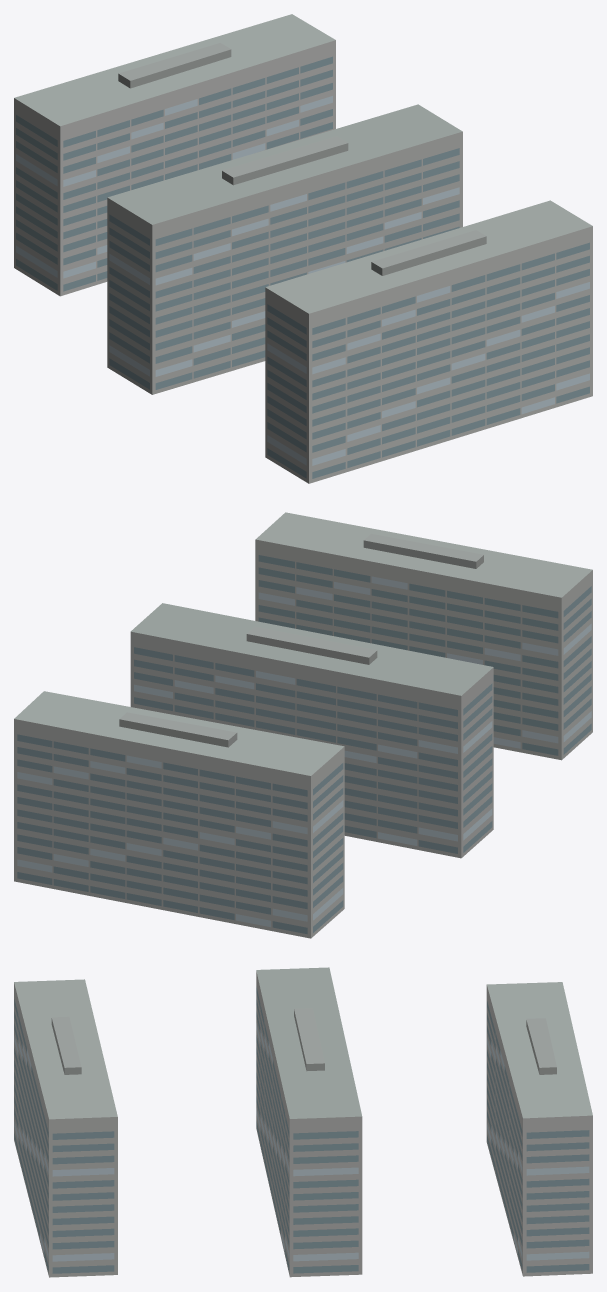
The model's file is apt-a13680701.glb.
The picture shows the model from 3 angles, top to bottom: view 1: azimuth 30°, elevation 25°; view 2: azimuth 150°, elevation 25°; view 3: azimuth 270°, elevation 25°; orthographic projection. The views are drawn at different scales.
Parts seen in each view (by area): view 1: apt-a13680701; view 2: apt-a13680701; view 3: apt-a13680701.
Boxes of the visible parts, bbox=[...] form: apt-a13680701: bbox=[14, 14, 592, 483]; apt-a13680701: bbox=[14, 512, 592, 938]; apt-a13680701: bbox=[14, 967, 592, 1277].
Size of the model in its own units: 81.71 by 41.43 by 132.
